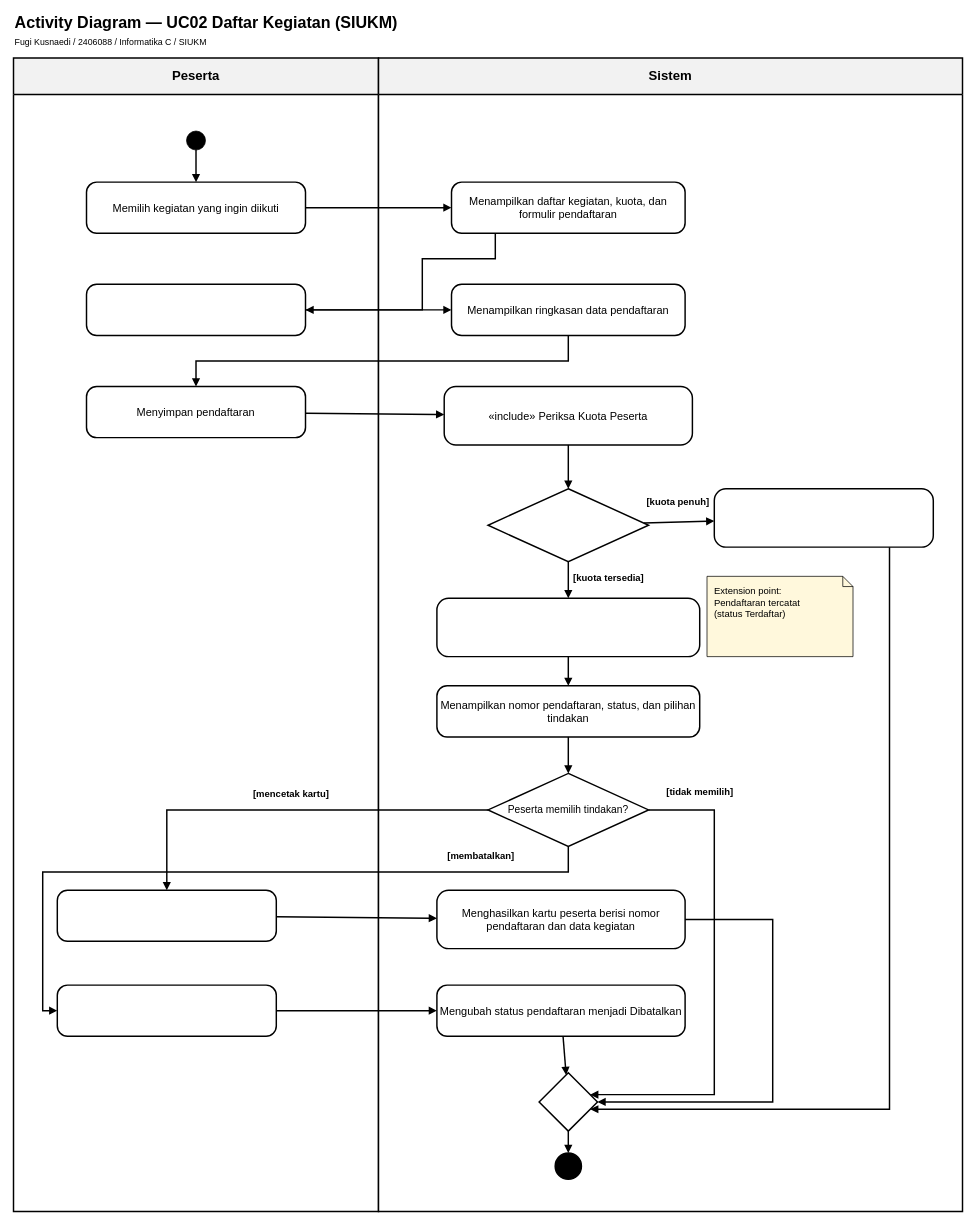
This 975x1224 diagram has some shape labels left out. The shapes that lost their labels are listed below. From the top down, each one's centre as x and y in pixels, then its label:
At pixel 195 309: "Mengisi data pendaftaran".
At pixel 568 525: "Kuota tersedia?".
At pixel 823 518: "Menampilkan pesan kuota penuh".
At pixel 568 627: "Menyimpan pendaftaran dengan nomor pendaftaran dan status Terdaftar".
At pixel 166 915: "«extend» Cetak Kartu Peserta".
At pixel 166 1010: "«extend» Batalkan Pendaftaran".
